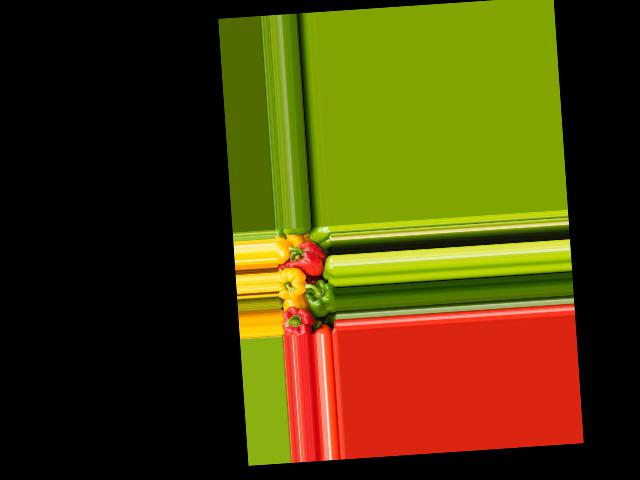bell_pepper: (280, 301, 315, 336)
